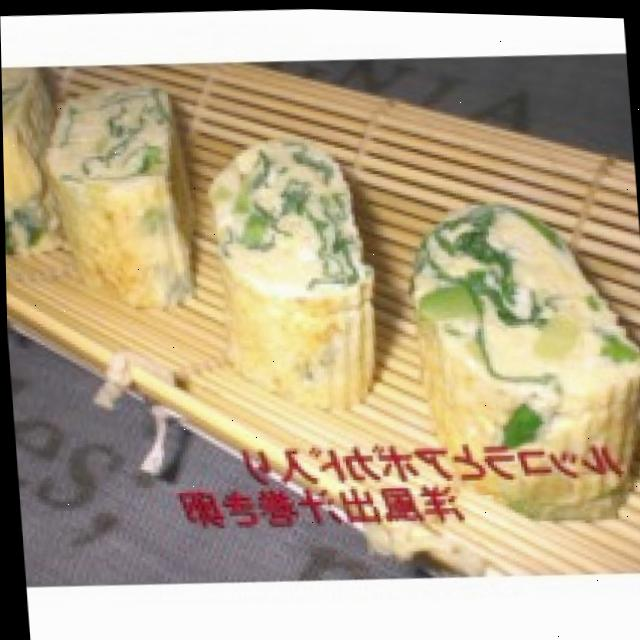鸡蛋料理: (46, 57, 640, 439)
